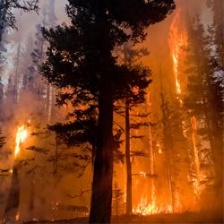fire: (163, 19, 221, 214), (131, 166, 163, 218), (10, 119, 42, 170)
